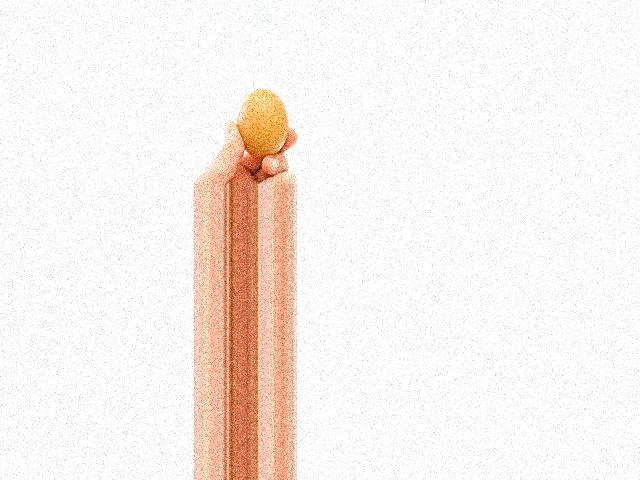egg: (237, 89, 289, 156)
